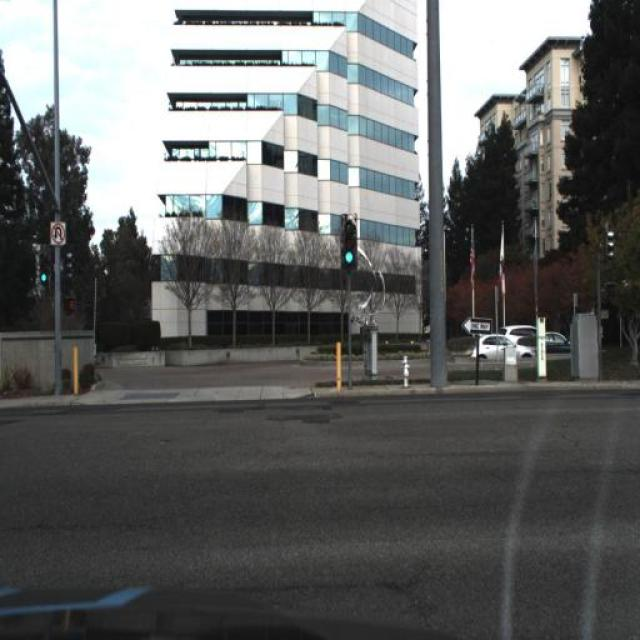car: (478, 334, 536, 365), (497, 322, 541, 358), (536, 322, 570, 358), (546, 331, 570, 362)
trafficLight-GreenLeft: (336, 218, 360, 294), (34, 256, 54, 304), (343, 213, 357, 264), (38, 260, 51, 290)
